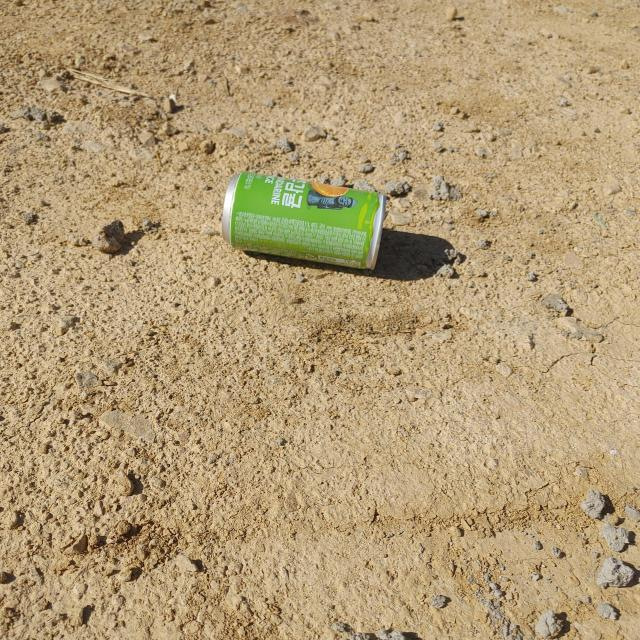can: (222, 172, 386, 269)
